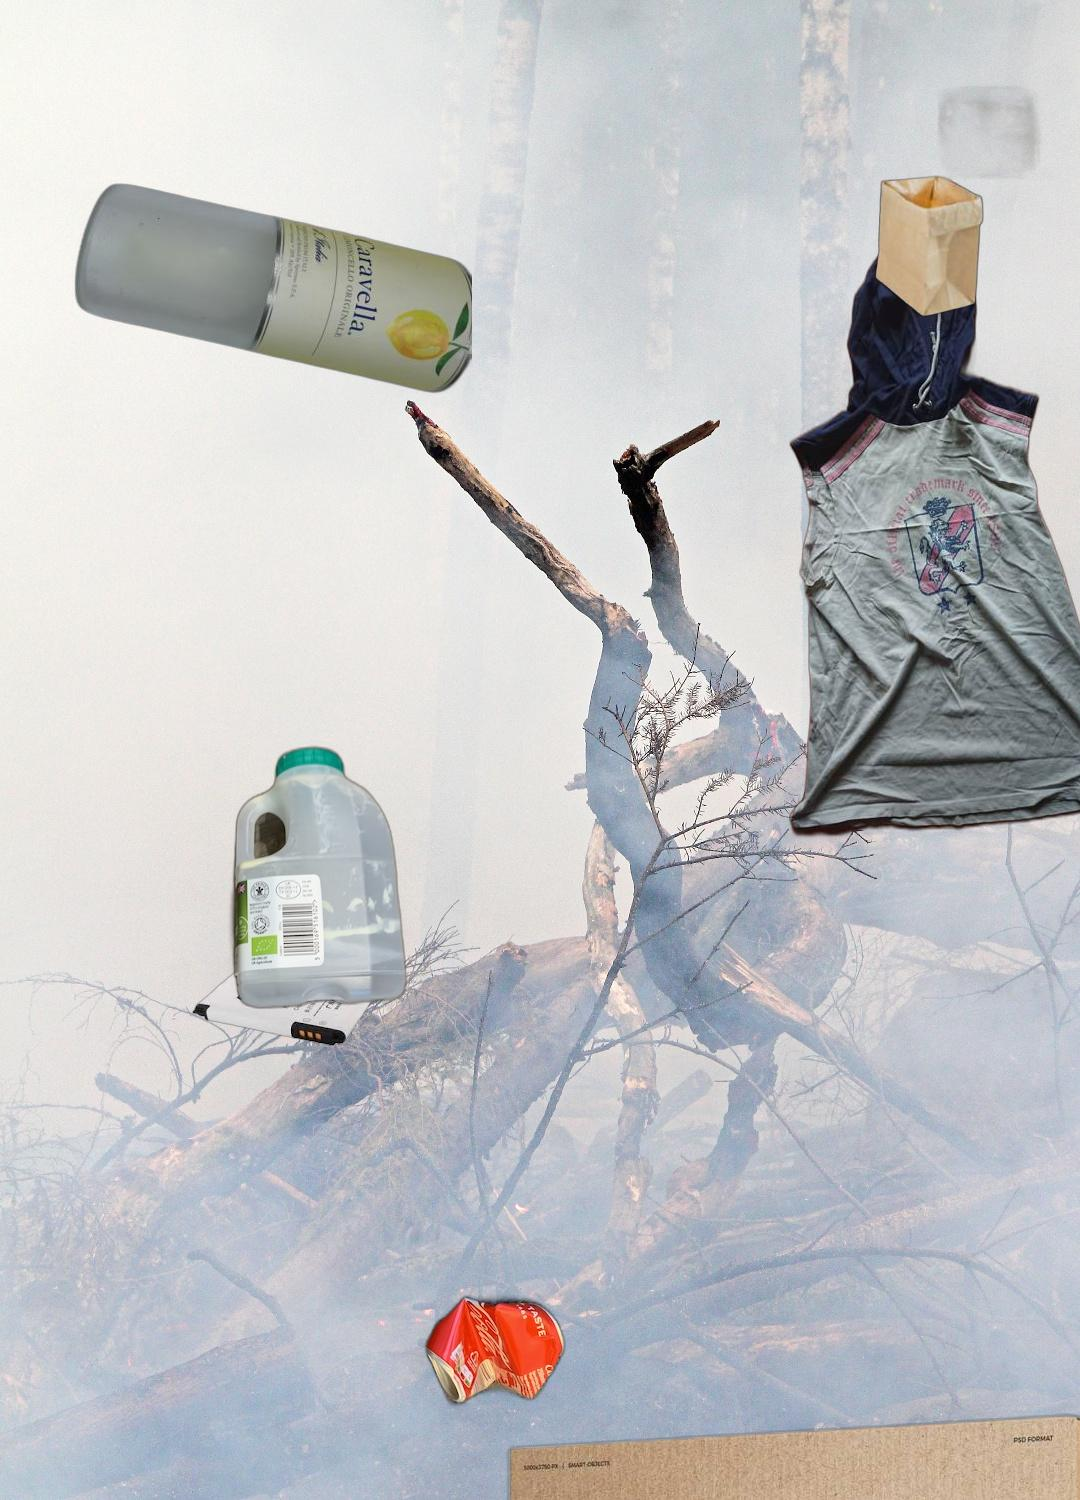battery: (186, 929, 405, 1098)
clothes: (788, 206, 1080, 842)
glass: (70, 181, 472, 395)
metal-cans: (422, 1292, 569, 1411)
paper-bag: (871, 62, 1061, 320)
plastic-bottles: (226, 741, 411, 1016)
trashbox-cardboard: (499, 1408, 1080, 1500)
